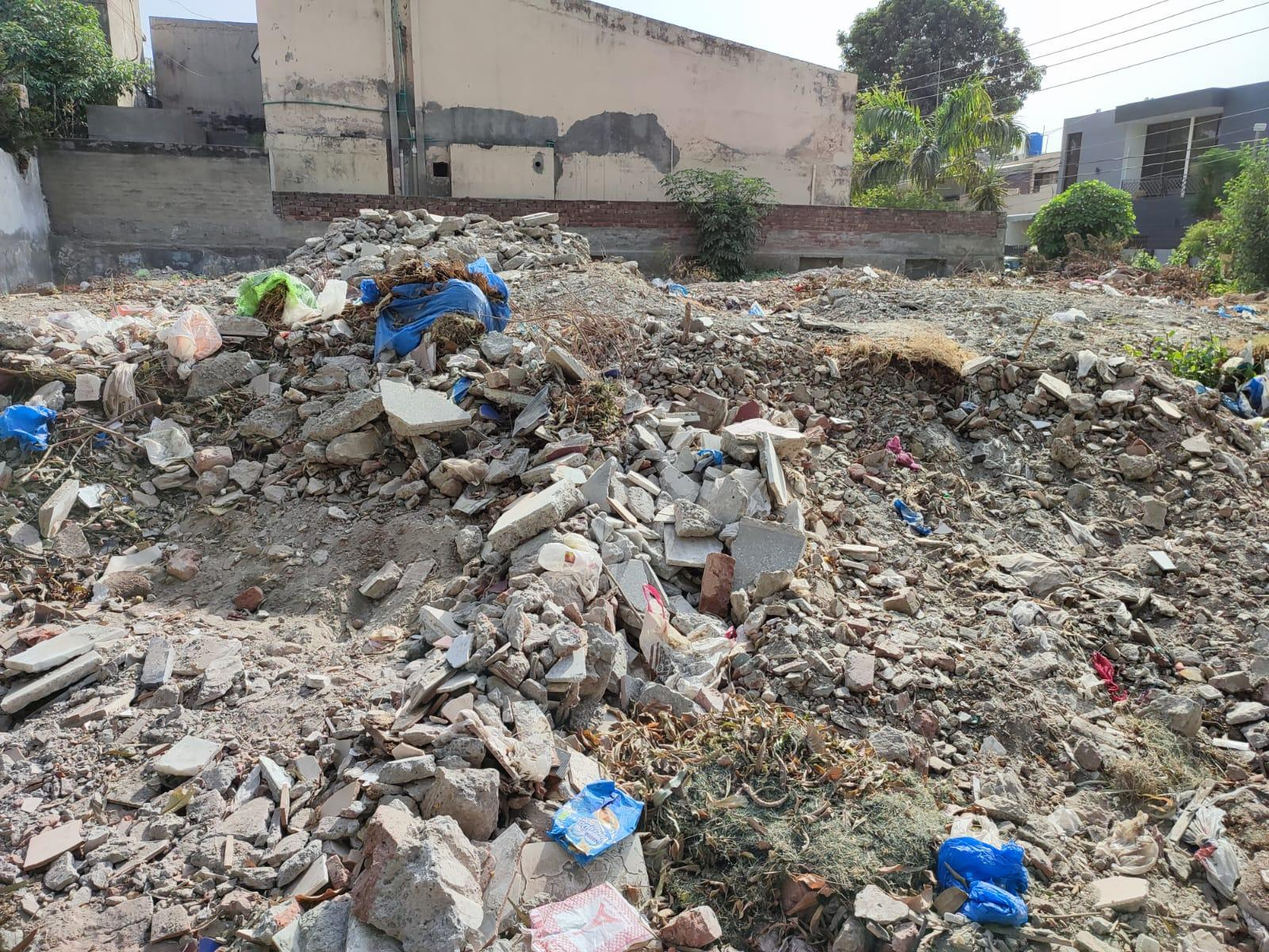garbage: (496, 683, 1035, 938), (185, 225, 564, 408), (0, 387, 100, 445)
